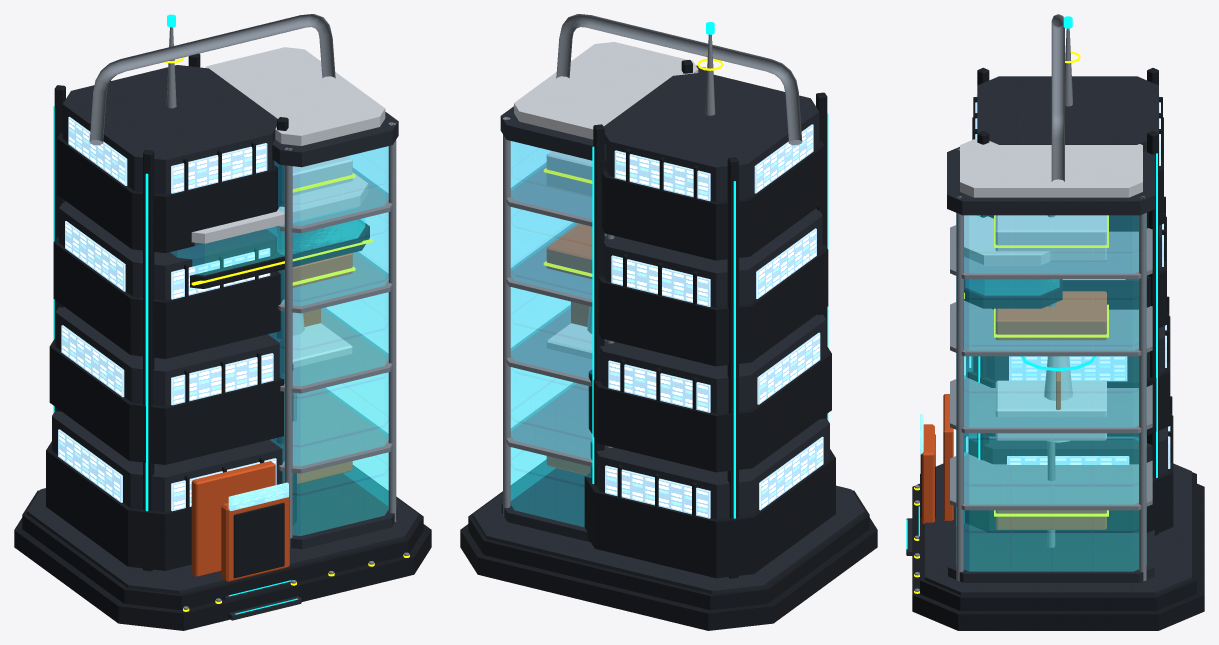
The model's file is bldg_16_r1_05.glb.
3 views of the same model, side by side, from view 1: azimuth 30°, elevation 25°; view 2: azimuth 150°, elevation 25°; view 3: azimuth 270°, elevation 25° (orthographic). The views are drawn at different scales.
Parts seen in each view (by area): view 1: Bldg16_C05_gunmetal, Bldg16_C05_carbon_slate, Bldg16_C05_glass_cyan, Bldg16_C05_steel_machined, Bldg16_C05_aero_white, Bldg16_C05_window_lit, Bldg16_C05_accent_orange, Bldg16_C05_led_cyan, Bldg16_C05_led_amber, Bldg16_C05_marquee; view 2: Bldg16_C05_gunmetal, Bldg16_C05_carbon_slate, Bldg16_C05_glass_cyan, Bldg16_C05_steel_machined, Bldg16_C05_window_lit, Bldg16_C05_aero_white, Bldg16_C05_accent_orange, Bldg16_C05_led_cyan; view 3: Bldg16_C05_glass_cyan, Bldg16_C05_carbon_slate, Bldg16_C05_steel_machined, Bldg16_C05_gunmetal, Bldg16_C05_aero_white, Bldg16_C05_accent_orange, Bldg16_C05_window_lit, Bldg16_C05_led_amber, Bldg16_C05_led_cyan.
Boxes of the visible parts, x1,y1,x2,y2 form: Bldg16_C05_gunmetal: [14, 53, 431, 630]; Bldg16_C05_carbon_slate: [27, 65, 418, 620]; Bldg16_C05_glass_cyan: [170, 146, 388, 535]; Bldg16_C05_steel_machined: [89, 14, 409, 609]; Bldg16_C05_aero_white: [191, 47, 385, 367]; Bldg16_C05_window_lit: [58, 116, 276, 511]; Bldg16_C05_accent_orange: [191, 253, 352, 581]; Bldg16_C05_led_cyan: [53, 14, 297, 614]; Bldg16_C05_led_amber: [164, 57, 409, 611]; Bldg16_C05_marquee: [228, 482, 288, 510]; Bldg16_C05_gunmetal: [460, 59, 877, 630]; Bldg16_C05_carbon_slate: [473, 65, 864, 593]; Bldg16_C05_glass_cyan: [510, 141, 606, 526]; Bldg16_C05_steel_machined: [503, 14, 802, 516]; Bldg16_C05_window_lit: [605, 124, 823, 518]; Bldg16_C05_aero_white: [514, 42, 698, 359]; Bldg16_C05_accent_orange: [546, 224, 592, 474]; Bldg16_C05_led_cyan: [592, 22, 828, 518]; Bldg16_C05_glass_cyan: [956, 213, 1146, 571]; Bldg16_C05_carbon_slate: [906, 76, 1191, 595]; Bldg16_C05_steel_machined: [914, 14, 1152, 591]; Bldg16_C05_gunmetal: [912, 67, 1204, 630]; Bldg16_C05_aero_white: [960, 139, 1142, 442]; Bldg16_C05_accent_orange: [921, 291, 1106, 529]; Bldg16_C05_window_lit: [966, 95, 1170, 468]; Bldg16_C05_led_amber: [914, 51, 1108, 593]; Bldg16_C05_led_cyan: [906, 16, 1157, 549].
Size of the model in its own units: 12.5 by 20.52 by 10.71.
Materials: 10 (10 with a texture image).
